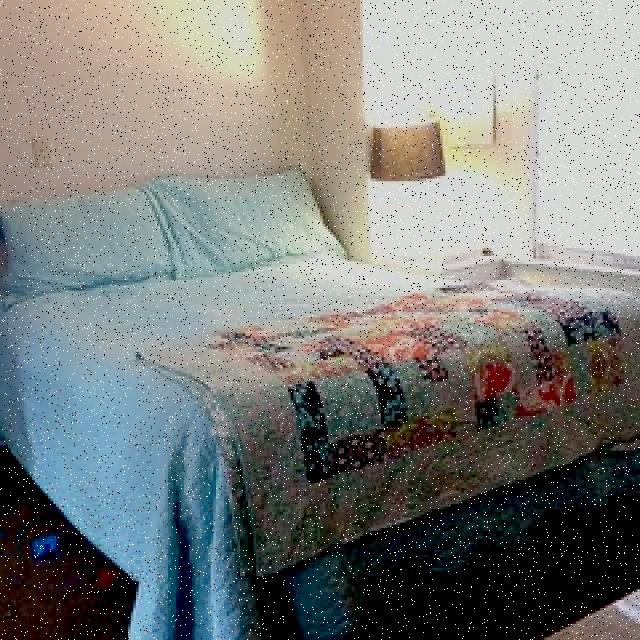bed: (2, 168, 640, 582)
